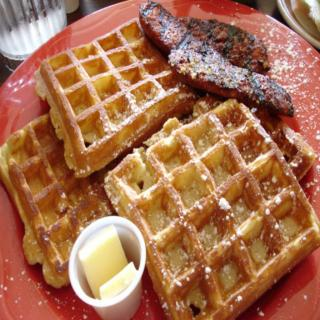Waffle: (103, 98, 319, 320), (32, 15, 196, 180), (0, 110, 118, 290), (180, 93, 320, 184)
